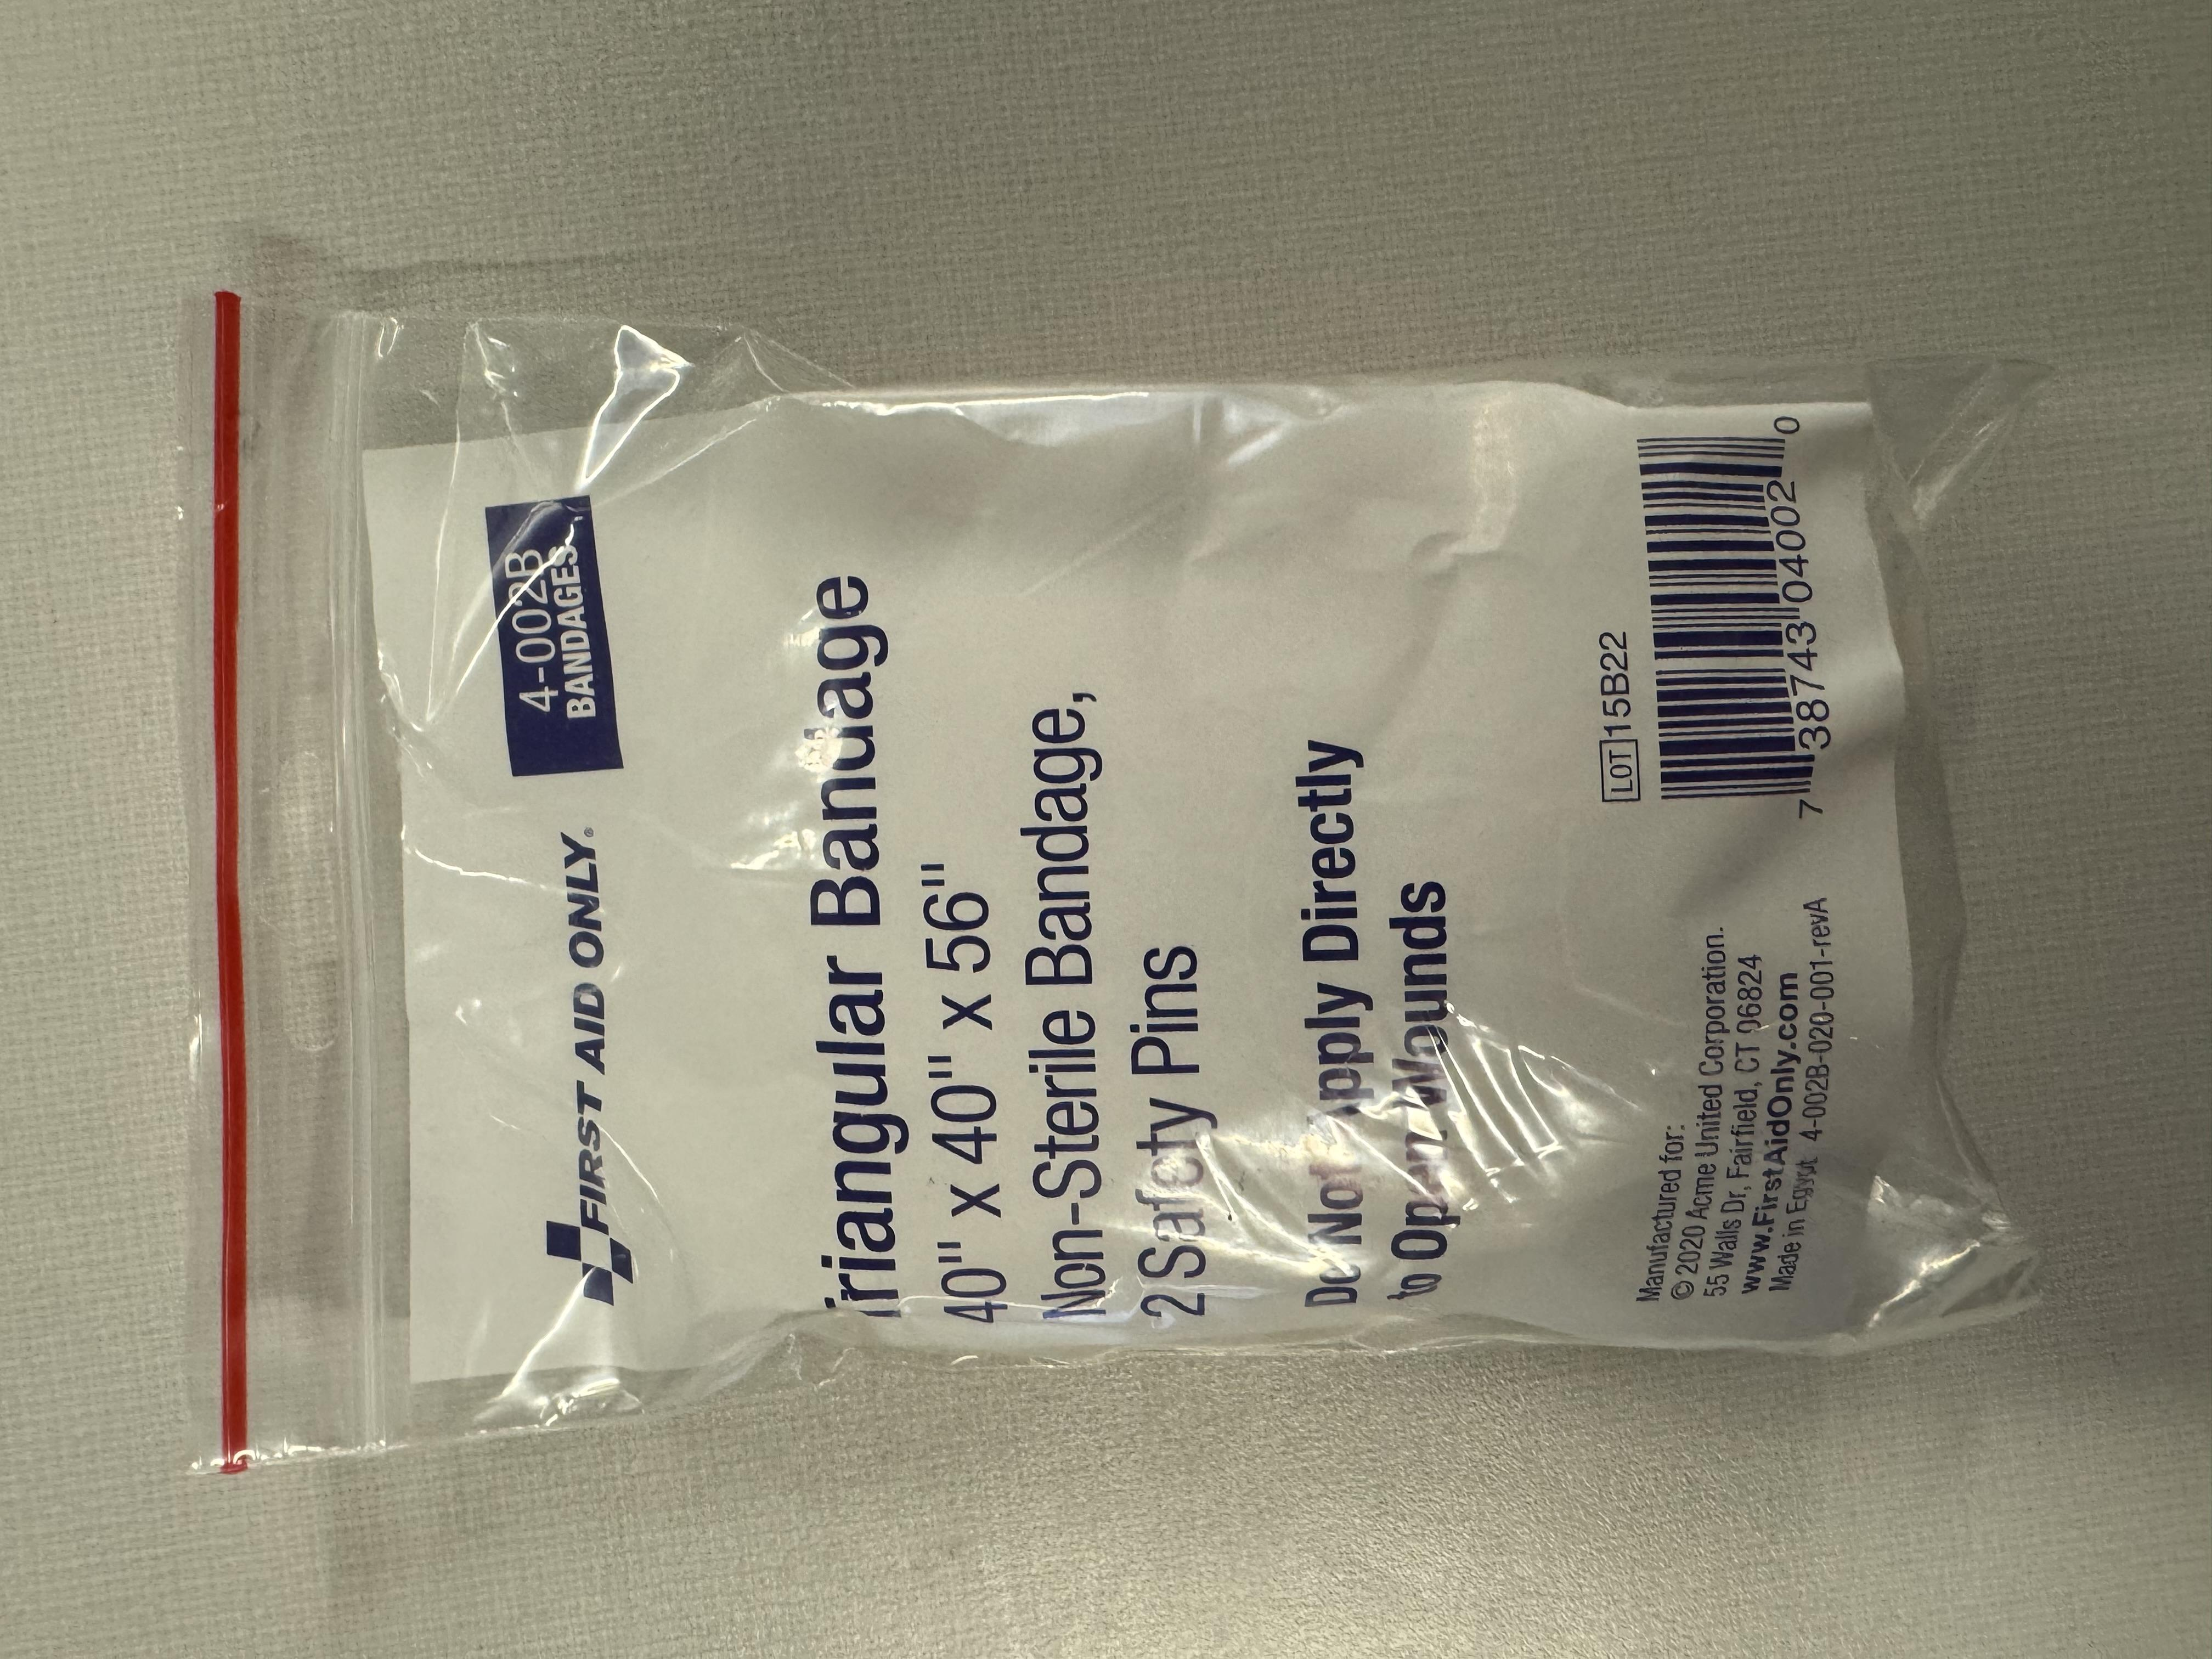bandage: (125, 195, 2090, 1480)
